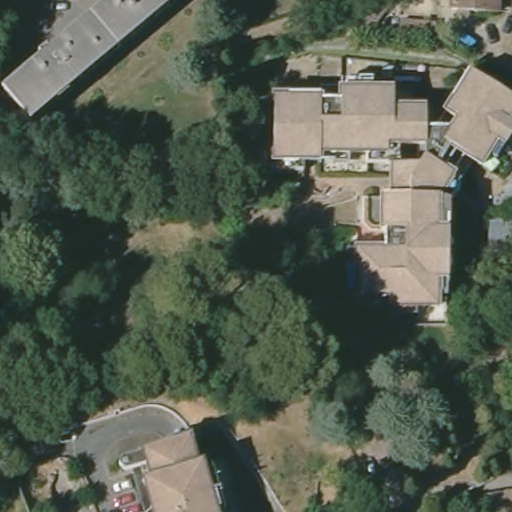pool: (456, 32, 480, 49)
